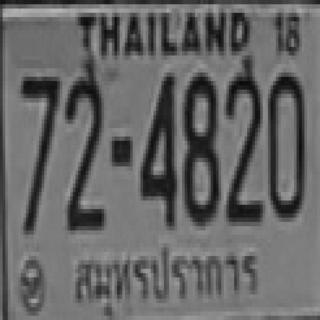N00: (267, 70, 306, 216)
N02: (64, 70, 103, 228), (224, 68, 260, 222)
N04: (138, 70, 174, 224)
N07: (18, 73, 57, 230), (18, 72, 57, 179)
N08: (182, 70, 218, 220)
P57: (68, 238, 265, 320)
